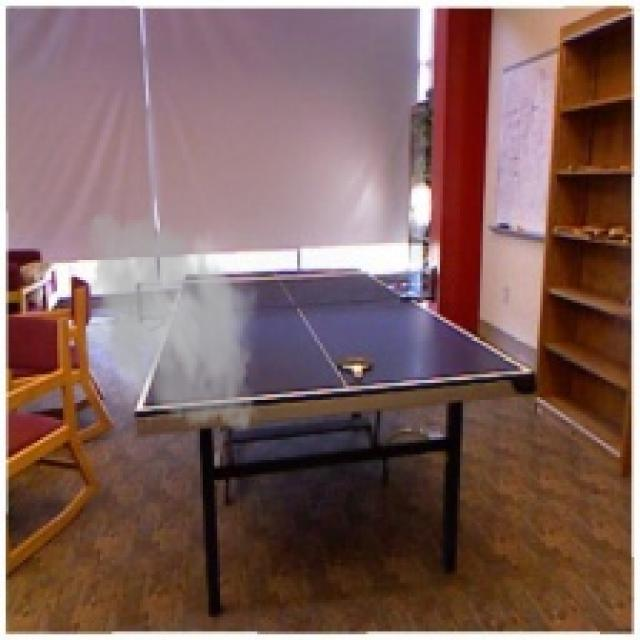smoke: (69, 203, 268, 440)
